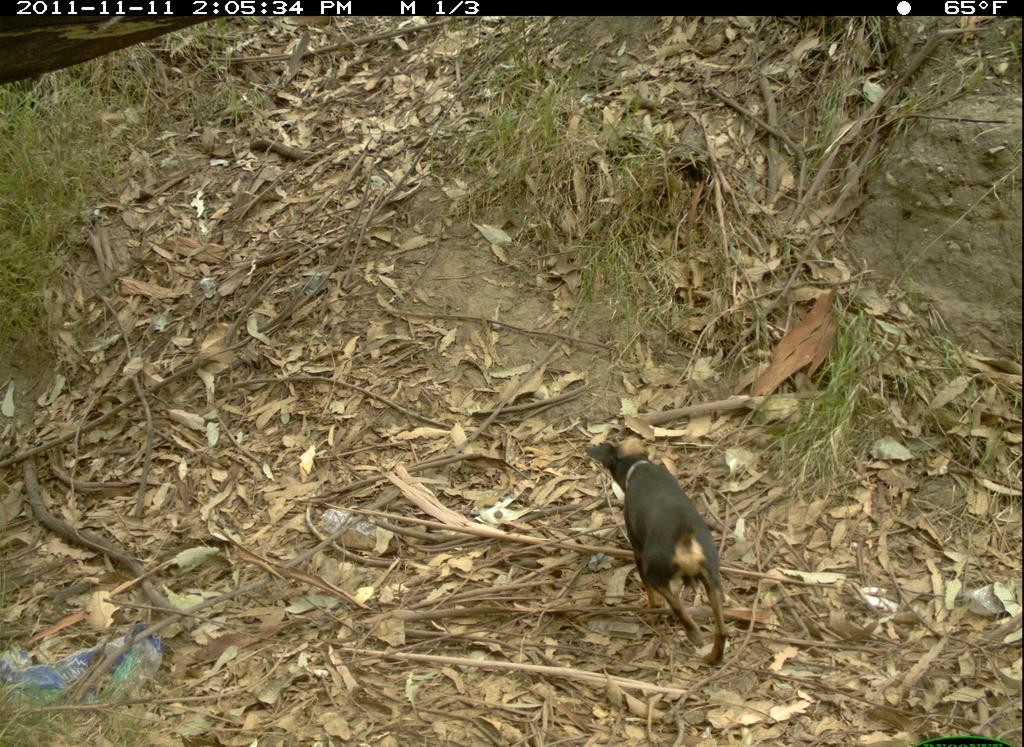dog: (575, 411, 744, 678)
